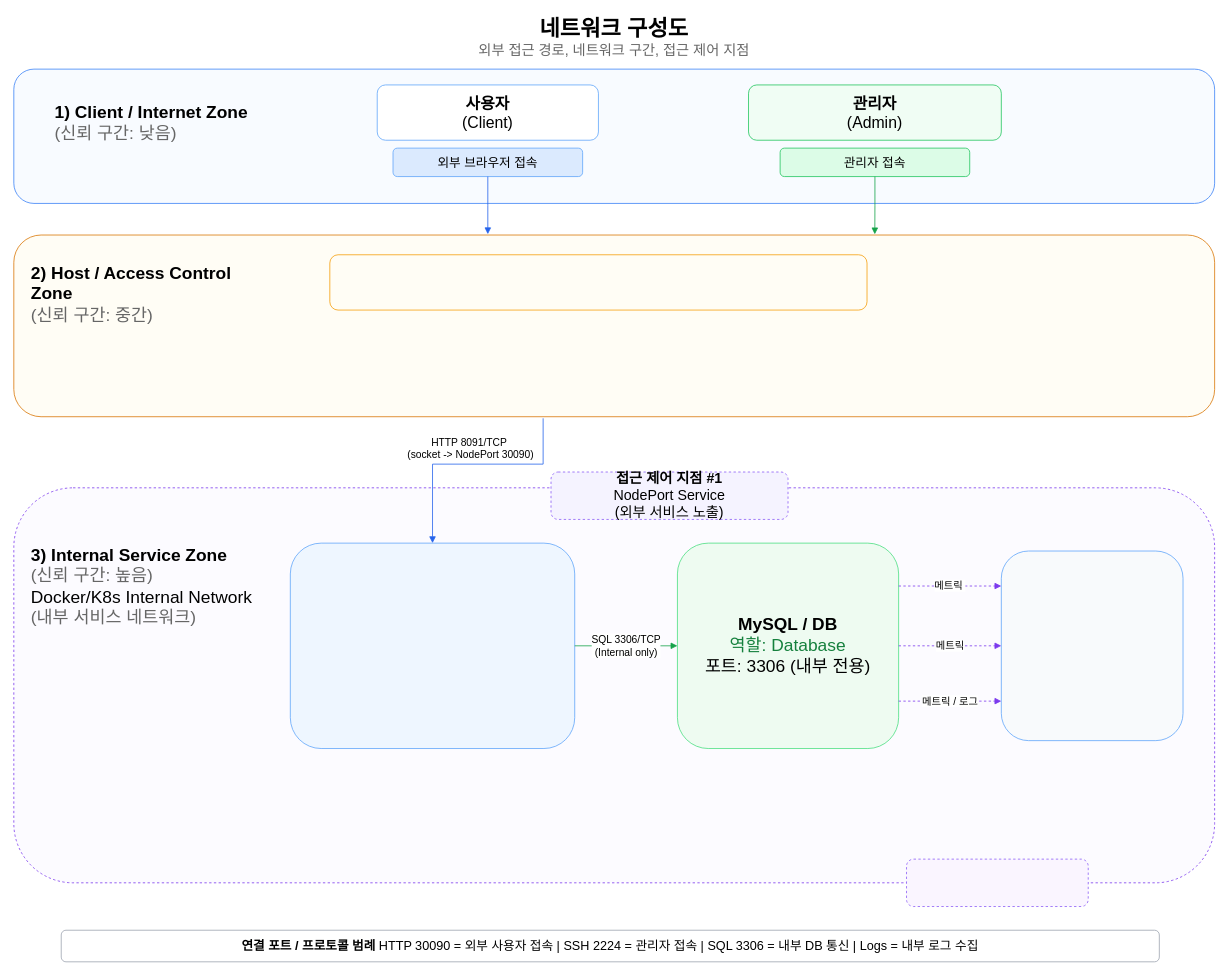
Some shapes in this 1228 by 976 pixel diagram are drawn without their labels. Each missing label, with the centre of its shape:
"Monitoring / Logging 역할: Monitoring / Logging Fluent Bit Elasticsearch Kibana" goes at pixel 1092 645.
"osTicket Service / Web-App 역할: Web / Application 포트: 80 (내부)" goes at pixel 432 645.
"공용 서버 116.46.206.77 (Web Service / SSH Admin Access)" goes at pixel 598 282.
"접근 제어 지점 #2 DB Boundary (DB 외부 접근 차단)" goes at pixel 997 882.
